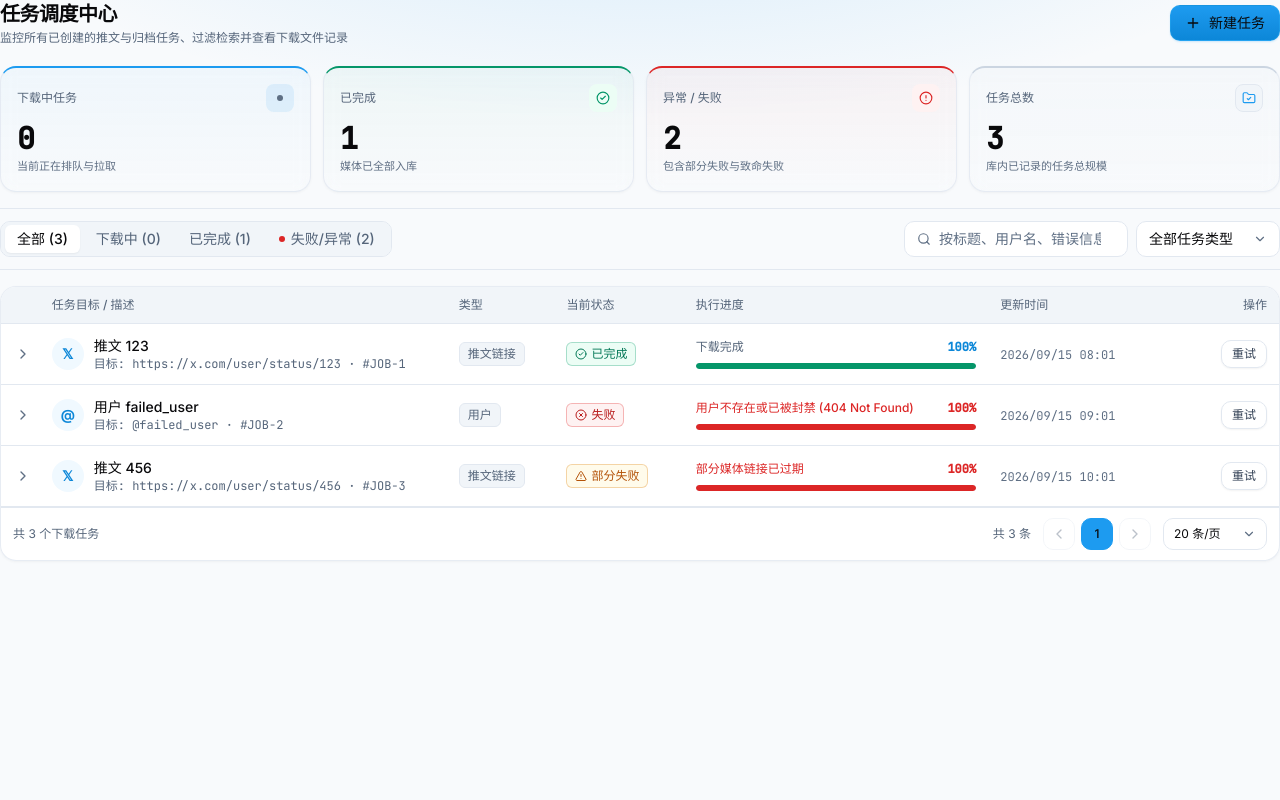
TaskCenterPage › 展开错误任务时，在详情顶部显示错误 Alert 和重试按钮
The width and height of the screenshot is (1280, 800).
# 点击第二个任务（失败任务）的展开按钮
Click the button named "展开详情" next to "用户 failed_user" at (23, 414), box [9,400,37,428]
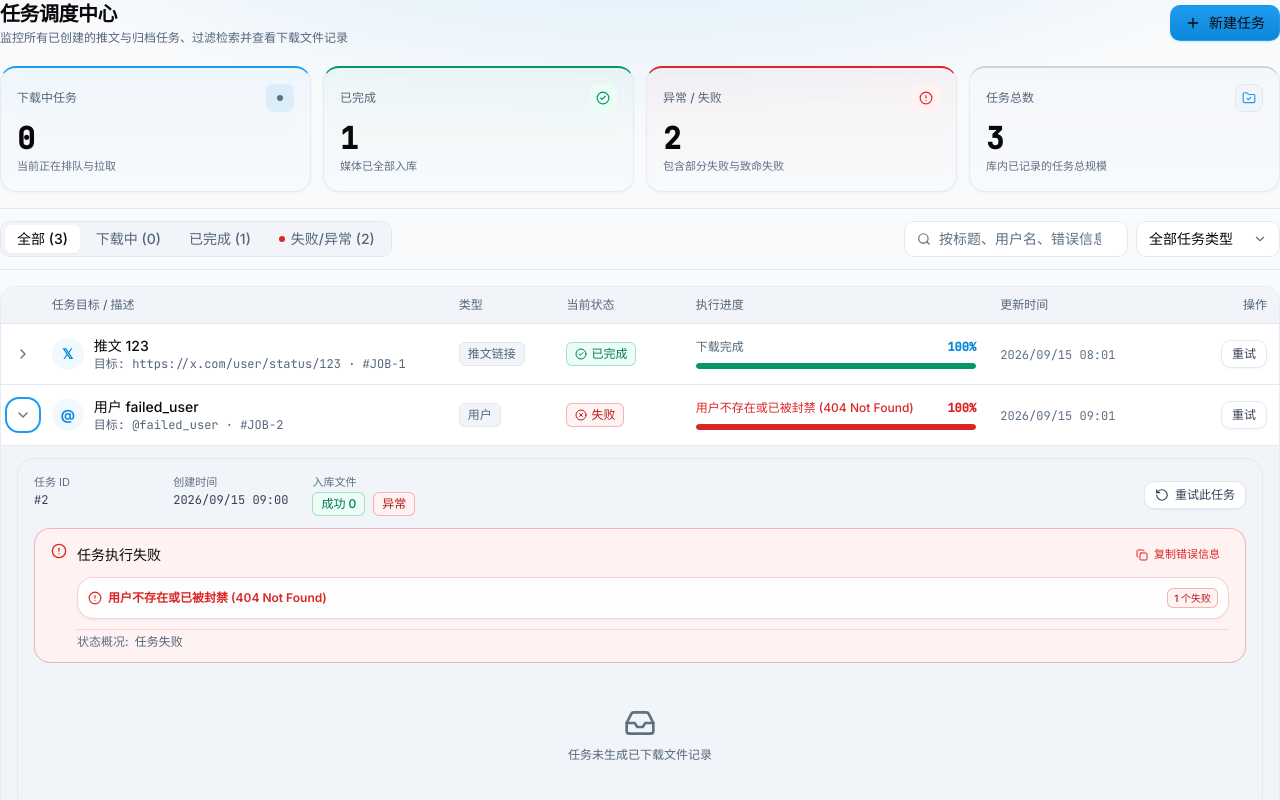
Expected: the text "任务执行失败" is shown, [77,545,161,565]
Expected: the text "任务未生成已下载文件记录" is shown, [568,747,712,763]
Expected: the button "重试此任务" is shown, [1144,481,1246,509]
